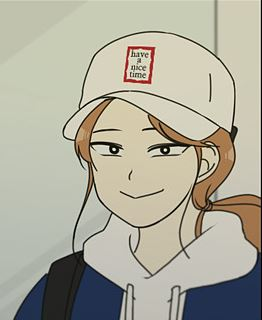hat: (61, 29, 234, 142)
